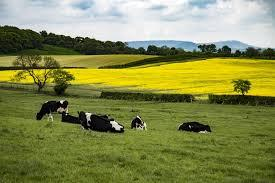cow: (76, 110, 124, 132), (35, 99, 69, 122), (177, 121, 212, 134), (130, 115, 147, 130)
